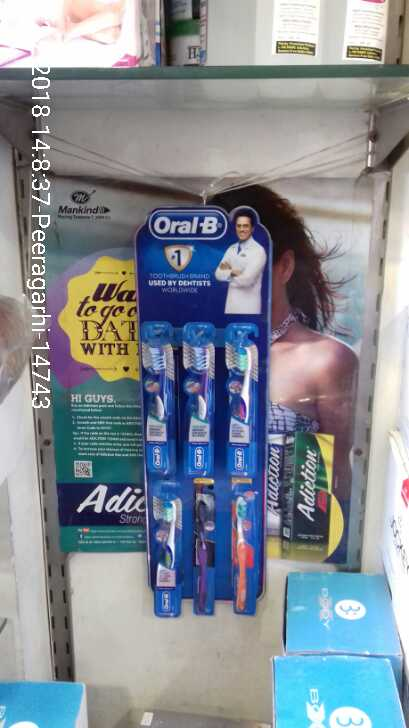oralb: (142, 319, 176, 476), (223, 323, 257, 477), (183, 320, 214, 477), (150, 476, 183, 619), (231, 478, 259, 613), (191, 478, 218, 616)
